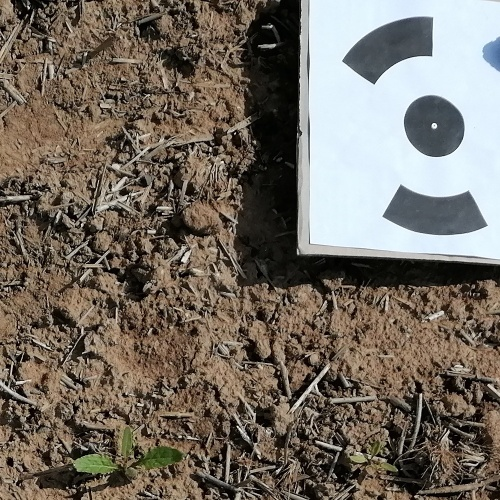beet: (73, 427, 182, 482), (349, 440, 401, 475)
